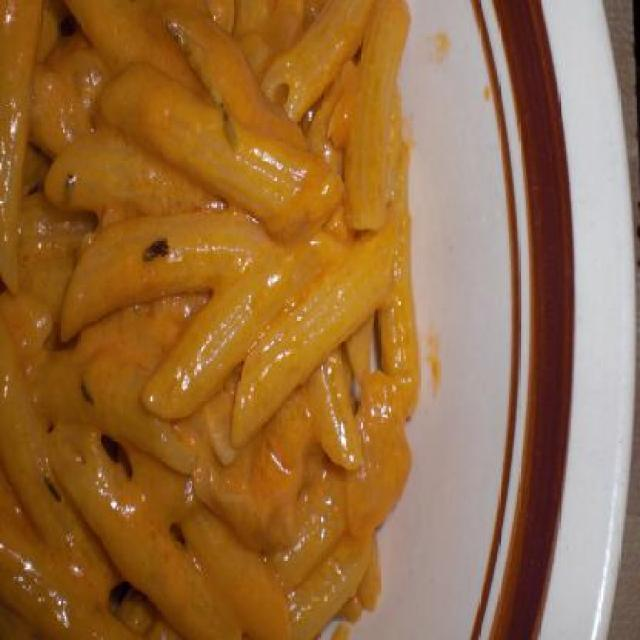Oil pasta: (4, 12, 450, 638)
